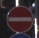No entry: (6, 5, 34, 33)
